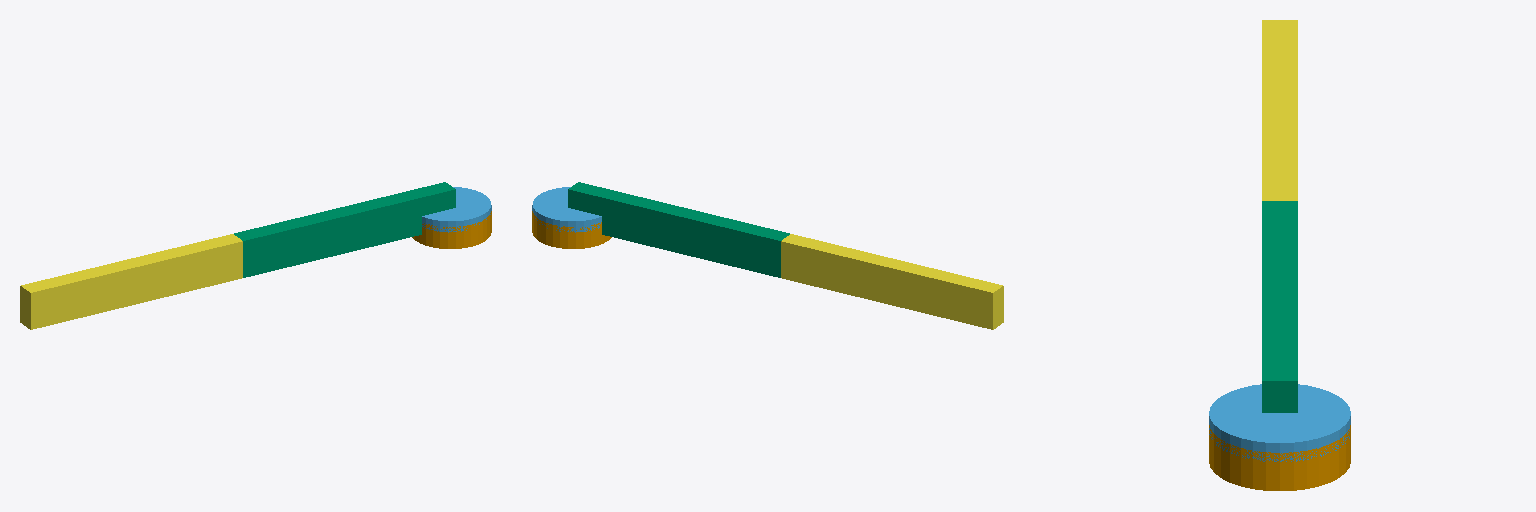
URDF robot description (roco_arm):
<?xml version="1.0" encoding="UTF-8"?>
<robot name="roco_arm">
   <link name="base_link">
      <visual>
         <geometry>
            <cylinder length="0.06" radius="0.1" />
         </geometry>
      </visual>
   </link>

   <link name="base_rotator">
      <visual>
         <geometry>
            <cylinder length="0.03" radius="0.1" />
         </geometry>
      </visual>
   </link>

   <link name="first_segment">
      <visual>
         <geometry>
            <box size="0.6 0.05 0.1" />
         </geometry>
         <origin rpy="0 0 0" xyz="-0.3 0 0" />
      </visual>
   </link>

   <link name="second_segment">
      <visual>
         <geometry>
            <box size="0.6 0.05 0.1" />
         </geometry>
         <origin rpy="0 0 0" xyz="-0.3 0 0" />
      </visual>
   </link>
   
   <joint name="base_to_rotator" type="revolute">
      <axis xyz="0 0 1" />
      <limit effort="1000" lower="0" upper="3.14" velocity="0.5" />
      <parent link="base_link" />
      <child link="base_rotator" />
      <origin xyz="0 0 0.03" />
   </joint>

	<joint name="rotator_to_first" type="revolute">
      <axis xyz="0 1 0" />
      <limit effort="1000" lower="0" upper="3.14" velocity="0.5" />
      <parent link="base_rotator" />
      <child link="first_segment" />
      <origin xyz="0 0 0.015" />
   </joint>

   <joint name="first_to_second" type="revolute">
      <axis xyz="0 -1 0" />
      <limit effort="1000" lower="-2.07" upper="2.07" velocity="0.5" />
      <parent link="first_segment" />
      <child link="second_segment" />
      <origin xyz="-0.6 0 0" />
   </joint>
</robot>

--- What the picture shows (computed from the rendered views, not written in the file) ---
The picture shows the robot from 3 angles, left to right: view 1: azimuth 30°, elevation 25°; view 2: azimuth 150°, elevation 25°; view 3: azimuth 270°, elevation 25°; orthographic projection.
Model roco_arm with 4 links and 3 joints (3 revolute), rooted at base_link, posed all joints at 0.
Links seen in each view (by area): view 1: second_segment, first_segment, base_rotator, base_link; view 2: second_segment, first_segment, base_rotator, base_link; view 3: first_segment, base_rotator, second_segment, base_link.
Boxes of the visible links, x1,y1,x2,y2 form: second_segment: (20, 234, 242, 329); first_segment: (234, 182, 455, 277); base_rotator: (422, 187, 491, 232); base_link: (412, 211, 491, 248); second_segment: (781, 234, 1003, 329); first_segment: (568, 182, 789, 277); base_rotator: (532, 187, 601, 232); base_link: (532, 211, 611, 248); first_segment: (1262, 201, 1297, 412); base_rotator: (1209, 384, 1350, 461); second_segment: (1262, 20, 1297, 200); base_link: (1209, 425, 1350, 490).
Size in the robot's own frame: 1.3 by 0.2 by 0.125 metres.
Geometry: primitives only (box / cylinder / sphere), no mesh files.